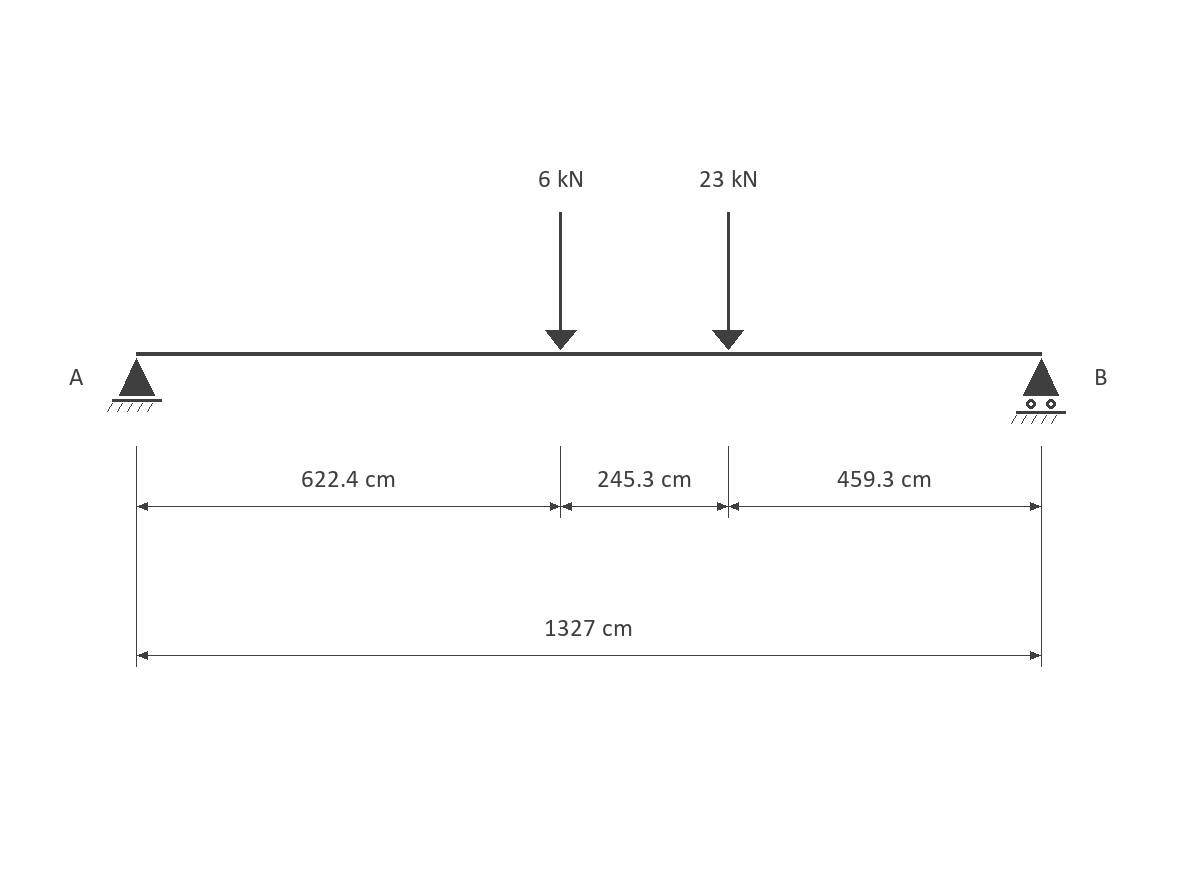pin_support: (107, 358, 162, 412)
point_load: (545, 212, 577, 350), (712, 212, 744, 350)
roller_support: (1011, 358, 1066, 424)
